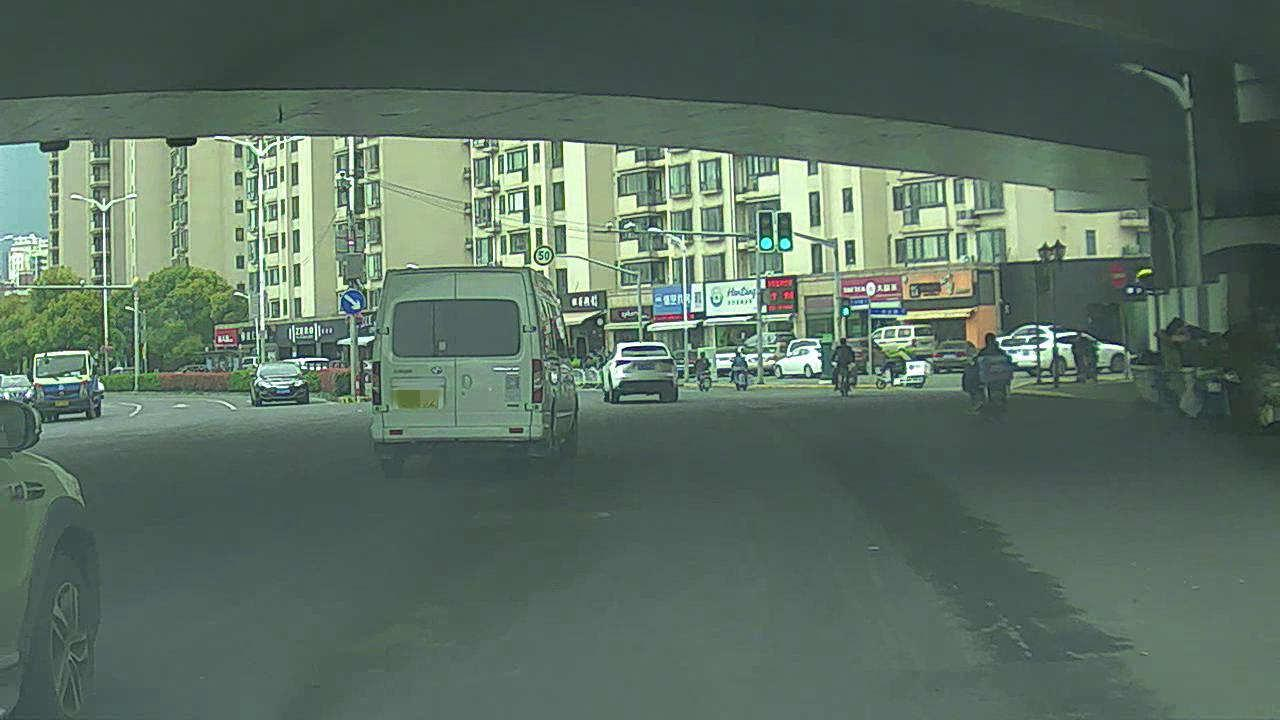traffic_light: (757, 207, 777, 252), (779, 210, 796, 251)
